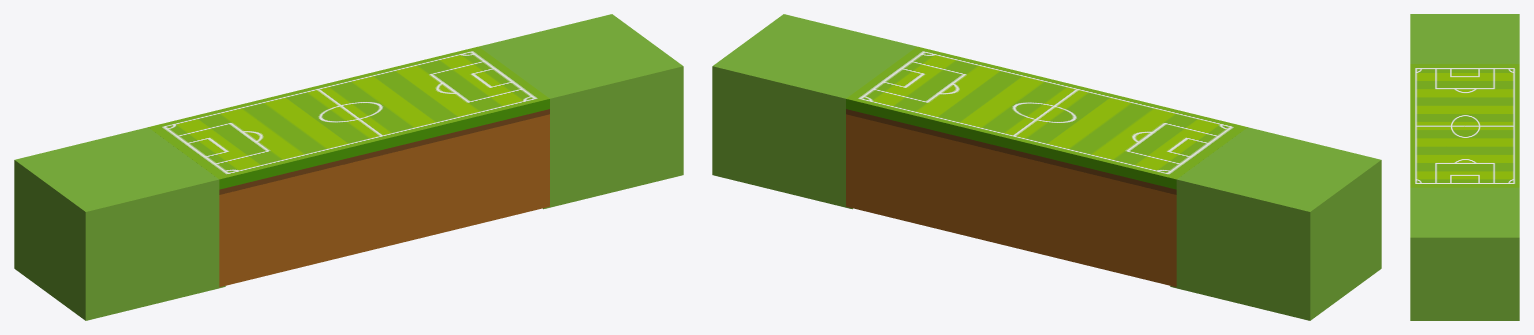
Rendered from campo.glb.
3 views of the same model, side by side, from view 1: azimuth 30°, elevation 25°; view 2: azimuth 150°, elevation 25°; view 3: azimuth 270°, elevation 25° (orthographic). The views are drawn at different scales.
Visible parts, largest first — view 1: Cube; view 2: Cube; view 3: Cube.
Boxes of the visible parts, box(x1,y1,x2,y2) form: Cube: box(14, 14, 683, 320); Cube: box(712, 14, 1381, 320); Cube: box(1410, 14, 1519, 320).
Bounding box in the file's own units: 58 × 10.1 × 12.
6 materials, 1 textured.
